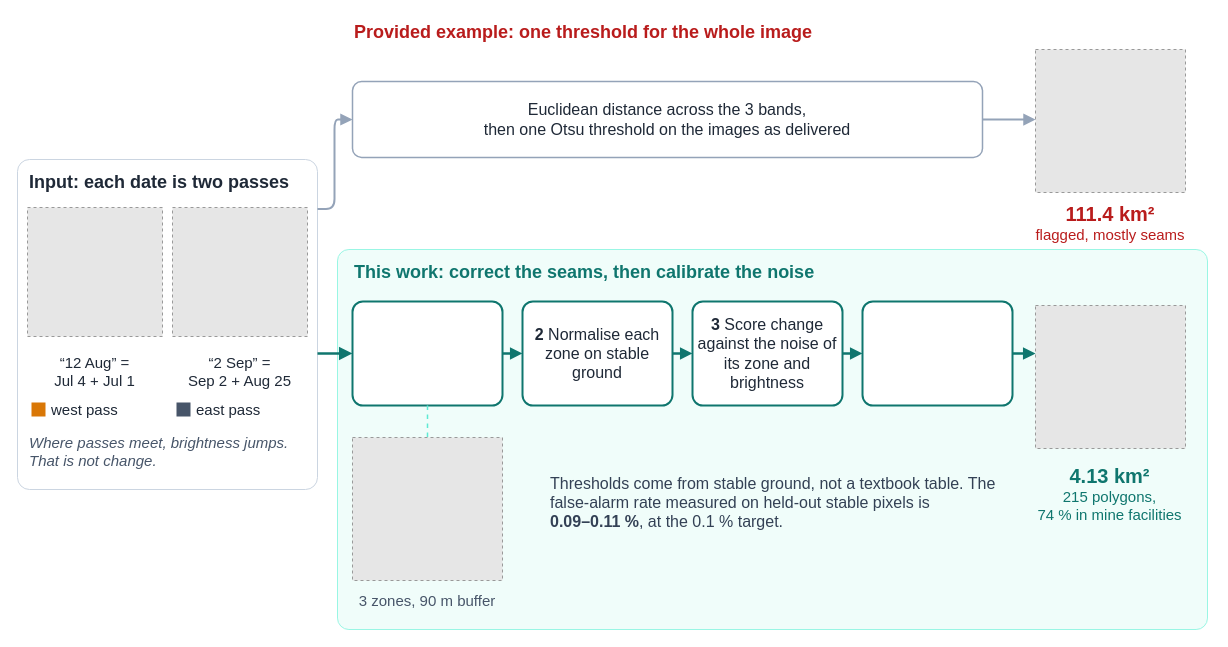
Image size: 1228x647. Some labels were removed from this diagram. Grey dashed boxes stand in for pictures. The box of each missing label's shape, as (x1, y1, x2, y2) in pixels:
1 Split into 3 zones, one scene pair each: (351, 300, 503, 406)
4 Keep what noise passes ≤ 1 in 1,000, then clean: (861, 300, 1013, 406)
